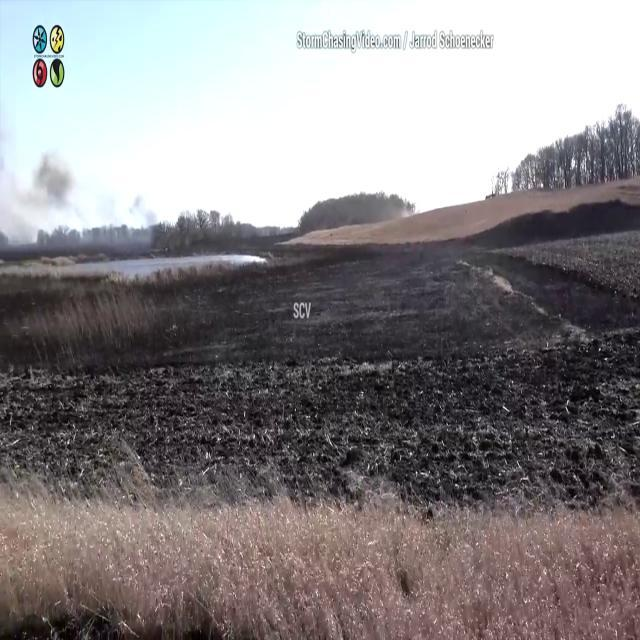Smoke: (1, 118, 155, 246)
